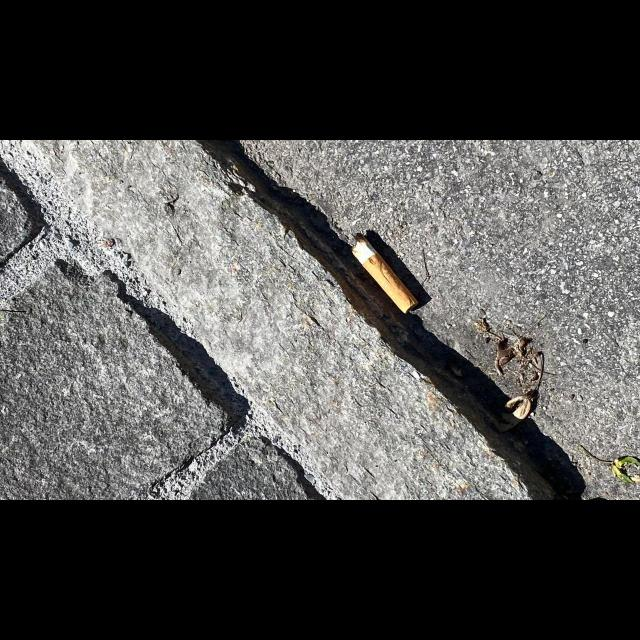cigarette: (351, 232, 418, 315)
